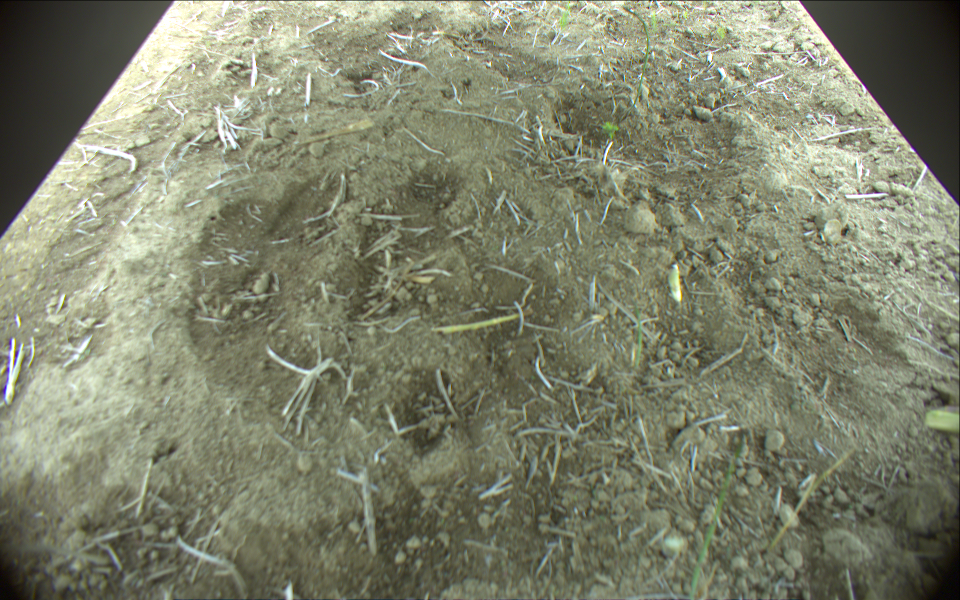aspa: (684, 453, 738, 600), (425, 309, 531, 337), (623, 6, 650, 109), (627, 295, 646, 370)
